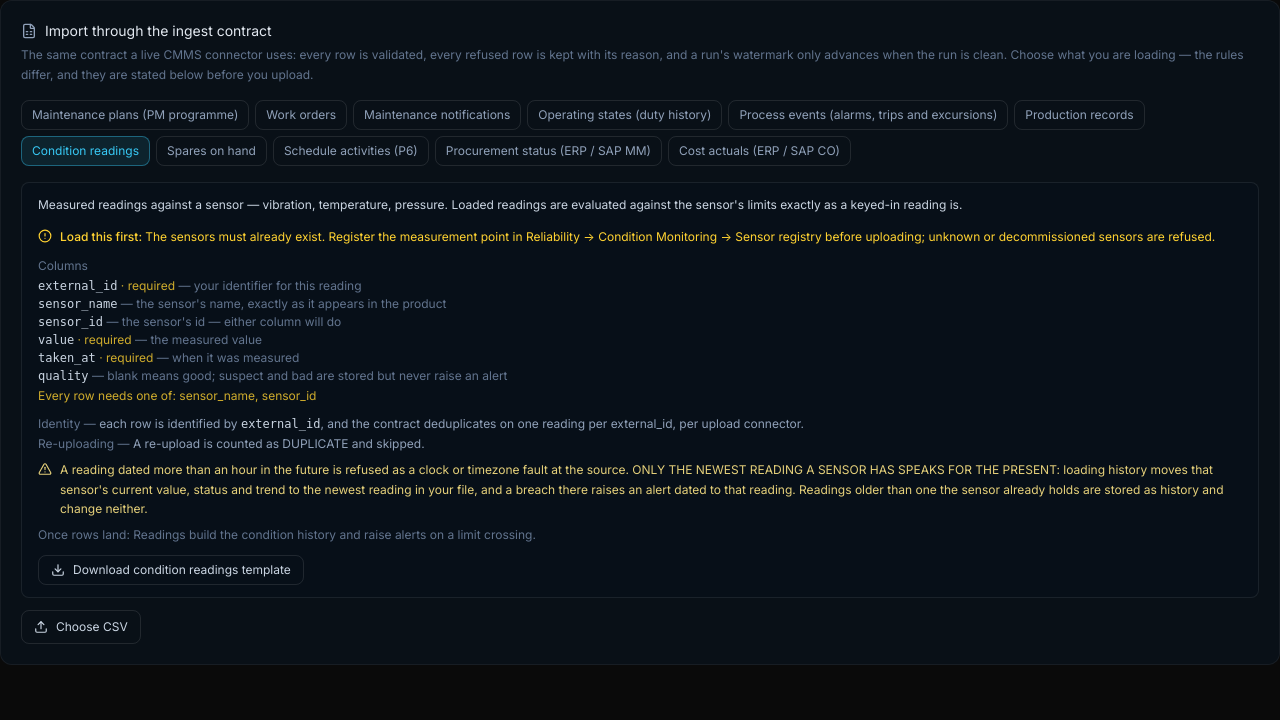
what the operator is told before uploading is per entity type › states each governed prerequisite before the file is uploaded
Expected: the text "The sensors must already exist" is shown, [145,228,1215,244]
What coordinates should you click on to do the following:
click the button "Spares on hand"
I would click on:
 (211, 151)
Its box is [156,136,267,166].
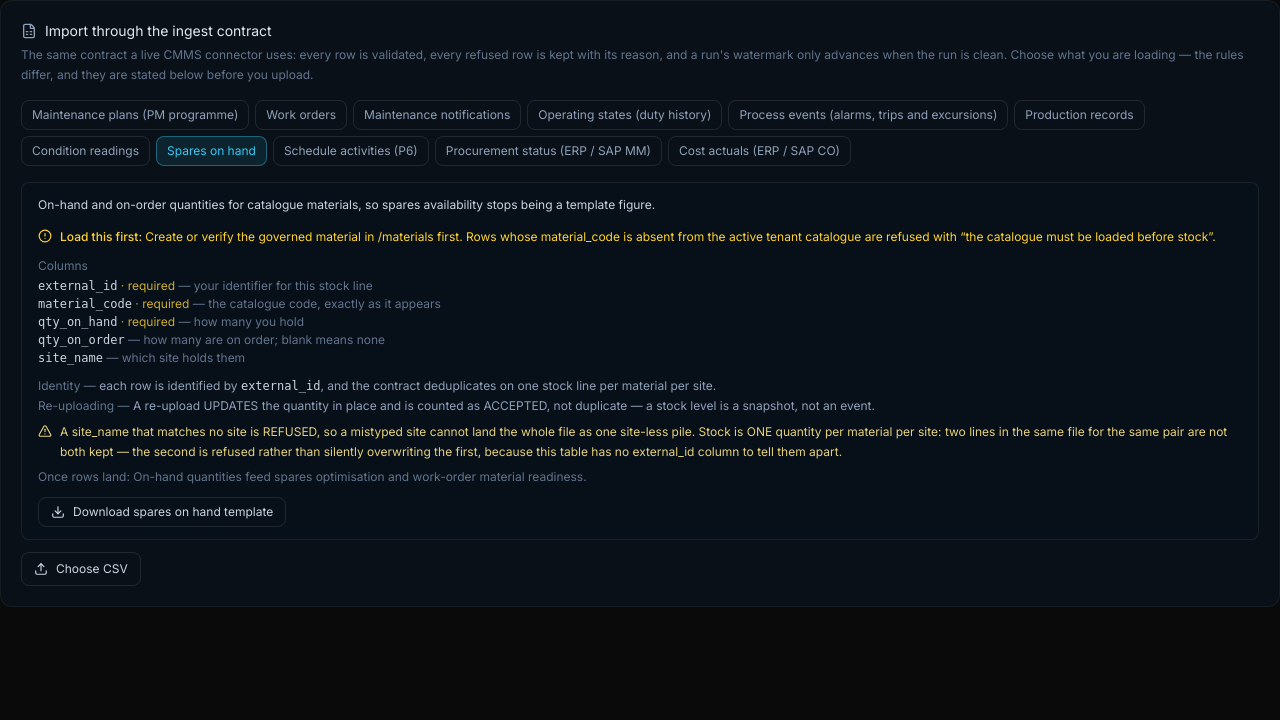
Expected: the text "absent from the active tenant catalogue are refused" is shown, [145,228,1216,244]
